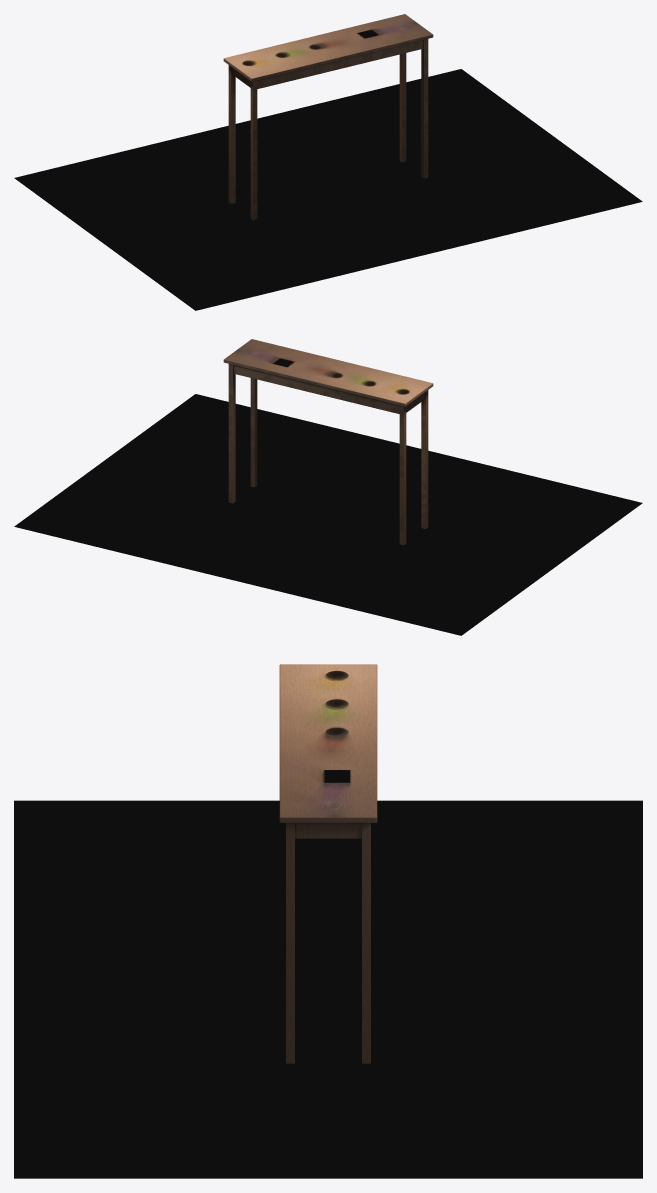
Rendered from 816_states.glb.
3 views of the same model, one above another, from view 1: azimuth 30°, elevation 25°; view 2: azimuth 150°, elevation 25°; view 3: azimuth 270°, elevation 25° (orthographic). The views are drawn at different scales.
Parts seen in each view (by area): view 1: Shadow, Table; view 2: Shadow, Table; view 3: Shadow, Table.
Boxes of the visible parts, box(x1,y1,x2,y2) form: Shadow: box(14, 69, 642, 310); Table: box(223, 14, 433, 220); Shadow: box(14, 394, 642, 635); Table: box(223, 339, 433, 545); Shadow: box(14, 800, 642, 1178); Table: box(279, 664, 377, 1063).
Bounding box in the file's own units: 10.1 × 3.1 × 7.1.
2 materials, 2 textured.
